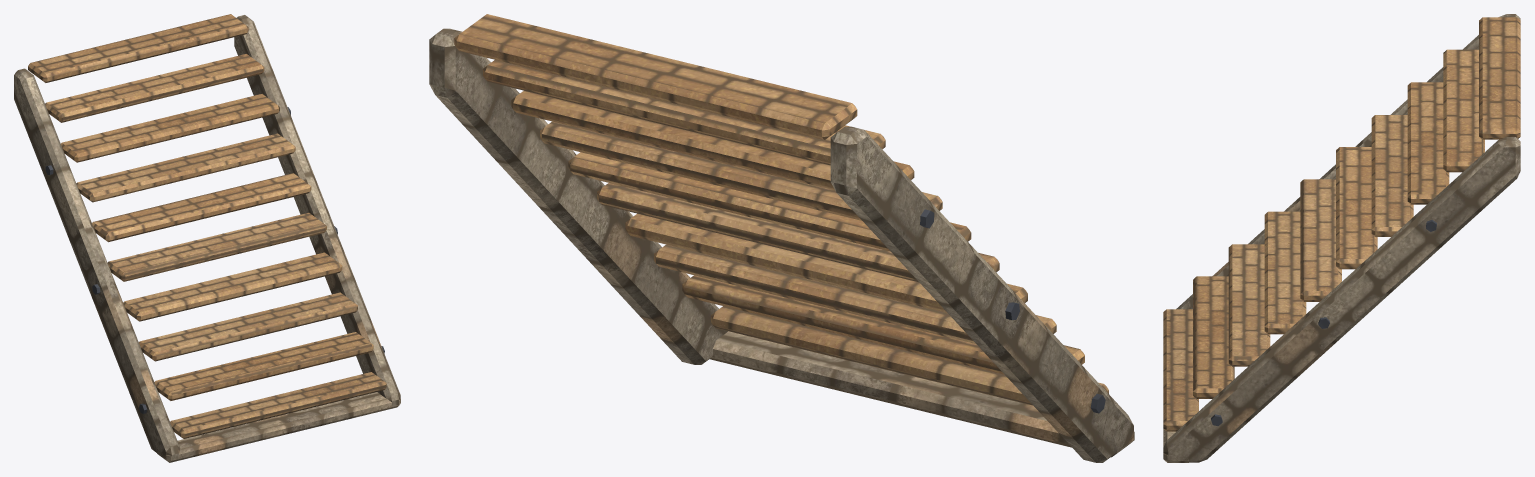
File: merdiven.glb
3 renders of one model, left to right at view 1: azimuth 30°, elevation 25°; view 2: azimuth 150°, elevation 25°; view 3: azimuth 270°, elevation 25°, orthographic. The views are drawn at different scales.
Parts seen in each view (by area): view 1: merdiven; view 2: merdiven; view 3: merdiven.
Part boxes in pixels (x1,y1,x2,y2): merdiven: [14, 14, 400, 462]; merdiven: [429, 14, 1134, 462]; merdiven: [1163, 14, 1520, 462].
Bounding box in the file's own units: 2.67 × 3.02 × 3.
1 material, 1 textured.
